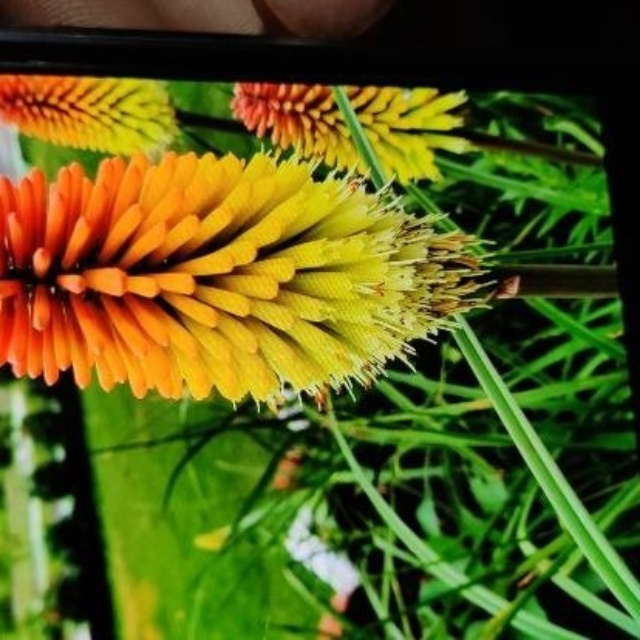obstacle: (32, 110, 615, 489)
